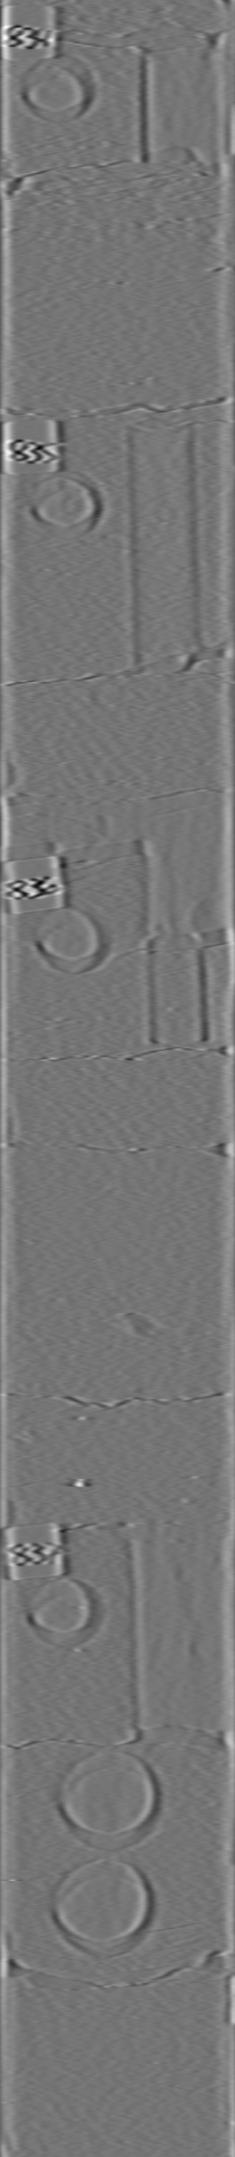hplug: (27, 897, 115, 984), (10, 52, 104, 127), (23, 464, 110, 543), (21, 1575, 104, 1655)
scal: (47, 1852, 168, 1959), (49, 1748, 164, 1857)
vplug: (118, 1519, 216, 1750), (118, 411, 203, 673), (135, 852, 214, 1048), (131, 28, 214, 175)
